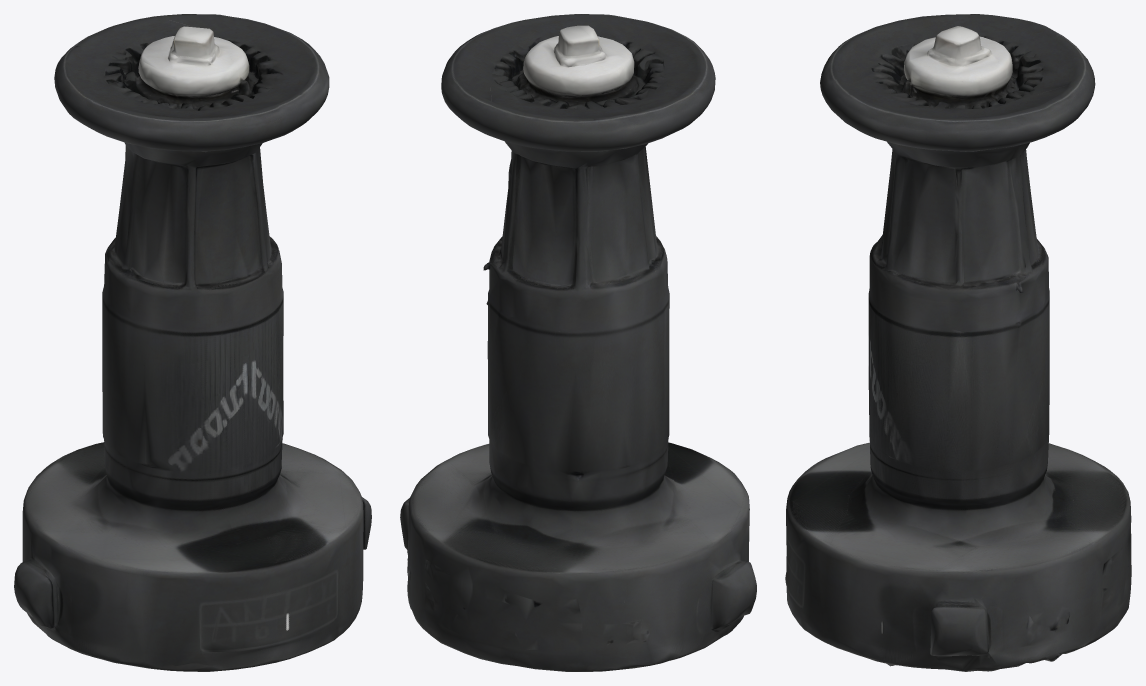
File: Meshy_AI_Black_rotary_knob_ass_0603131650_texture.fbx
3 views of the same model, side by side, from view 1: azimuth 30°, elevation 25°; view 2: azimuth 150°, elevation 25°; view 3: azimuth 270°, elevation 25° (orthographic).
Parts seen in each view (by area): view 1: Mesh_0; view 2: Mesh_0; view 3: Mesh_0.
Part boxes in pixels (x1,y1,x2,y2): Mesh_0: (14,14,371,671); Mesh_0: (400,14,756,671); Mesh_0: (785,14,1131,671).
Size of the model in its own units: 124 by 200 by 108.
1 material, 1 textured.
